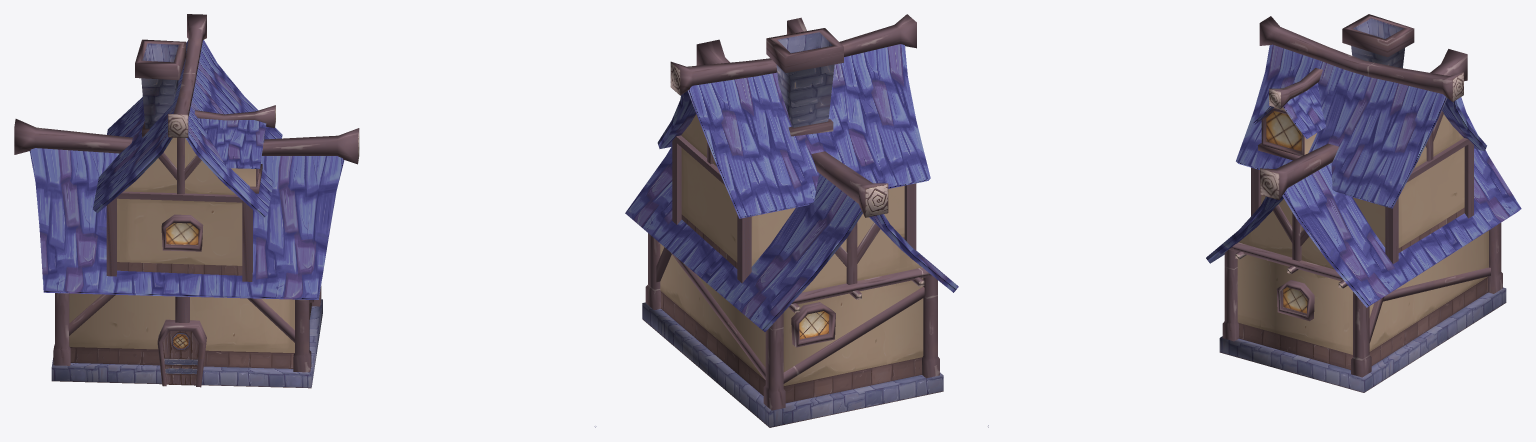
Rendered from Medieval_House_02.fbx.
The picture shows the model from 3 angles, left to right: view 1: azimuth 30°, elevation 25°; view 2: azimuth 150°, elevation 25°; view 3: azimuth 270°, elevation 25°; orthographic projection. The views are drawn at different scales.
Parts seen in each view (by area): view 1: Roof.001, FirstFloor, Roof4, SecondFloor2, Base.001, Window_Big4, Chimney3, Door2.001, WindowFrame2.001, Wood5.001; view 2: Roof4, Roof.001, FirstFloor, SecondFloor2, Base.001, Chimney3, Wood17.001, WindowFrame3.001, Wood22.001; view 3: Roof4, FirstFloor, Roof.001, SecondFloor2, Base.001, Window_Big4, Chimney3, WindowFrame1.001, Wood22.001.
Boxes of the visible parts, <box> form: Roof.001: <box>14,119,359,299</box>; FirstFloor: <box>53,286,321,372</box>; Roof4: <box>93,14,282,218</box>; SecondFloor2: <box>106,191,252,281</box>; Base.001: <box>51,299,322,388</box>; Window_Big4: <box>194,105,275,193</box>; Chimney3: <box>135,39,186,137</box>; Door2.001: <box>157,319,206,387</box>; WindowFrame2.001: <box>161,214,203,251</box>; Wood5.001: <box>247,298,294,342</box>; Roof4: <box>657,14,930,218</box>; Roof.001: <box>625,39,958,331</box>; FirstFloor: <box>645,233,939,410</box>; SecondFloor2: <box>672,135,916,283</box>; Base.001: <box>642,302,943,427</box>; Chimney3: <box>766,28,843,136</box>; Wood17.001: <box>783,286,924,383</box>; WindowFrame3.001: <box>791,302,835,347</box>; Wood22.001: <box>671,253,765,379</box>; Roof4: <box>1236,16,1486,208</box>; FirstFloor: <box>1222,223,1502,377</box>; Roof.001: <box>1206,49,1521,307</box>; SecondFloor2: <box>1251,138,1473,263</box>; Base.001: <box>1219,287,1506,392</box>; Window_Big4: <box>1253,68,1325,160</box>; Chimney3: <box>1342,14,1414,68</box>; WindowFrame1.001: <box>1276,279,1314,321</box>; Wood22.001: <box>1383,267,1490,301</box>.
Bounding box in the file's own units: 1584 × 1211 × 2024.
